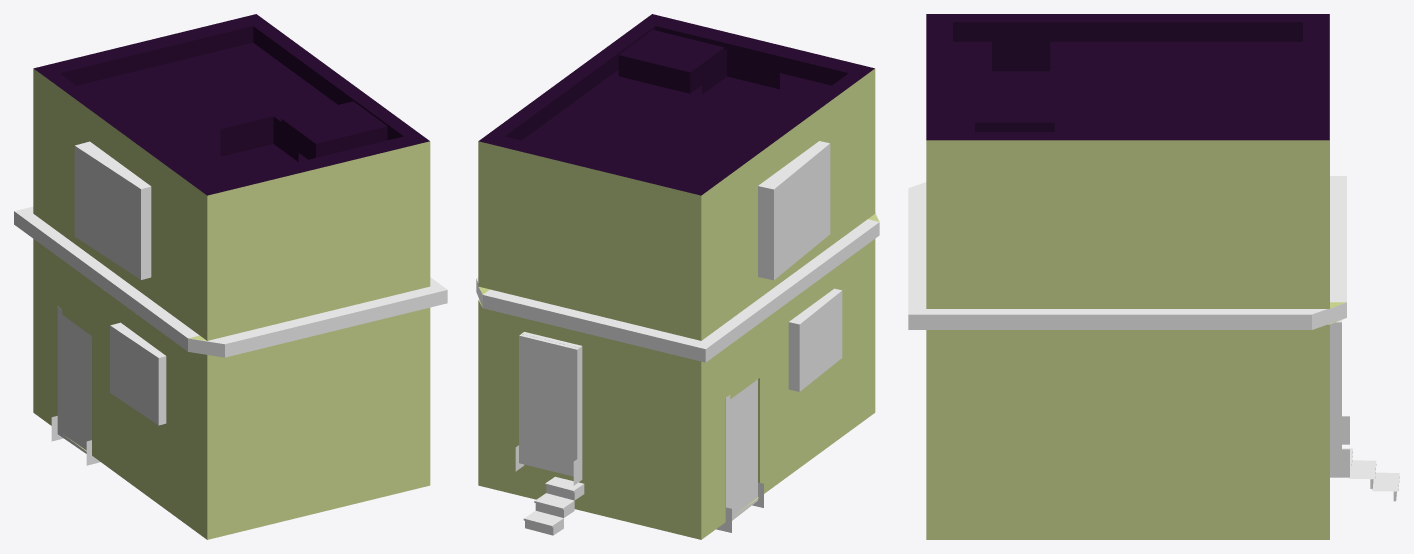
The model's file is house2.gltf.
3 views of the same model, side by side, from view 1: azimuth 30°, elevation 25°; view 2: azimuth 150°, elevation 25°; view 3: azimuth 270°, elevation 25° (orthographic). The views are drawn at different scales.
Visible parts, largest first — view 1: Cube, CTRL_Hole.002, CTRL_Hole.001, CTRL_Hole; view 2: Cube, CTRL_Hole.003, CTRL_Hole.002, CTRL_Hole.001, CTRL_Hole, Stairs; view 3: Cube, CTRL_Hole.003, Stairs, CTRL_Baseboard.001.
Boxes of the visible parts, left/top/right/bottom form: Cube: left=14, top=14, right=447, bottom=539; CTRL_Hole.002: left=74, top=141, right=151, bottom=279; CTRL_Hole.001: left=110, top=322, right=166, bottom=425; CTRL_Hole: left=57, top=306, right=91, bottom=453; Cube: left=476, top=14, right=879, bottom=539; CTRL_Hole.003: left=519, top=332, right=582, bottom=476; CTRL_Hole.002: left=758, top=141, right=830, bottom=280; CTRL_Hole.001: left=788, top=288, right=842, bottom=391; CTRL_Hole: left=725, top=379, right=757, bottom=520; Stairs: left=523, top=476, right=584, bottom=535; Cube: left=908, top=14, right=1346, bottom=539; CTRL_Hole.003: left=1330, top=320, right=1341, bottom=449; Stairs: left=1342, top=448, right=1399, bottom=501; CTRL_Baseboard.001: left=1330, top=416, right=1349, bottom=477.
Size of the model in its own units: 4.28 by 6 by 6.31.
